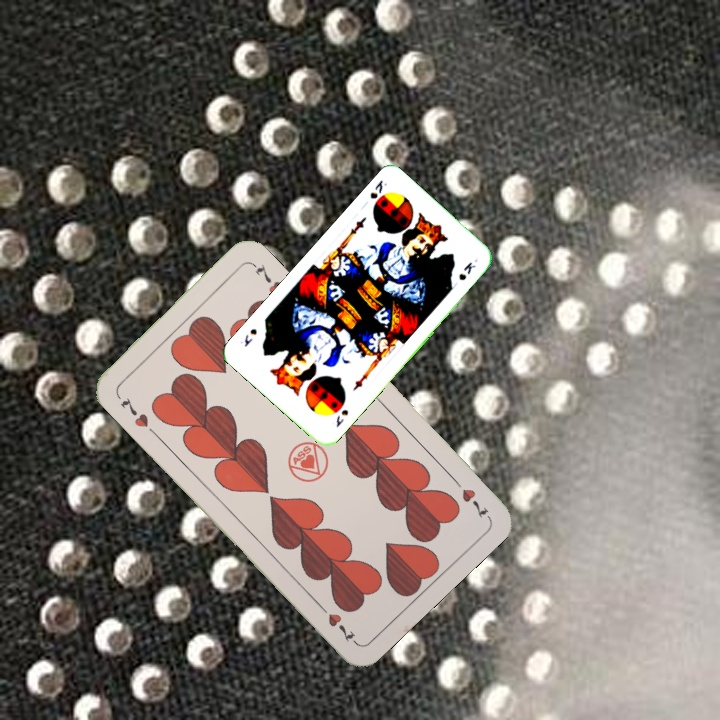H7: (447, 472, 492, 521), (116, 393, 151, 430)
SK: (360, 175, 389, 210), (332, 405, 351, 430)
